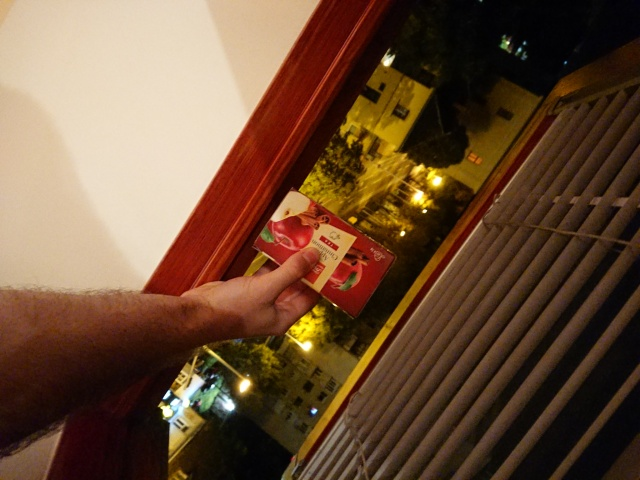Franck Apple Cinnamon Tea 60g: (247, 183, 399, 322)
